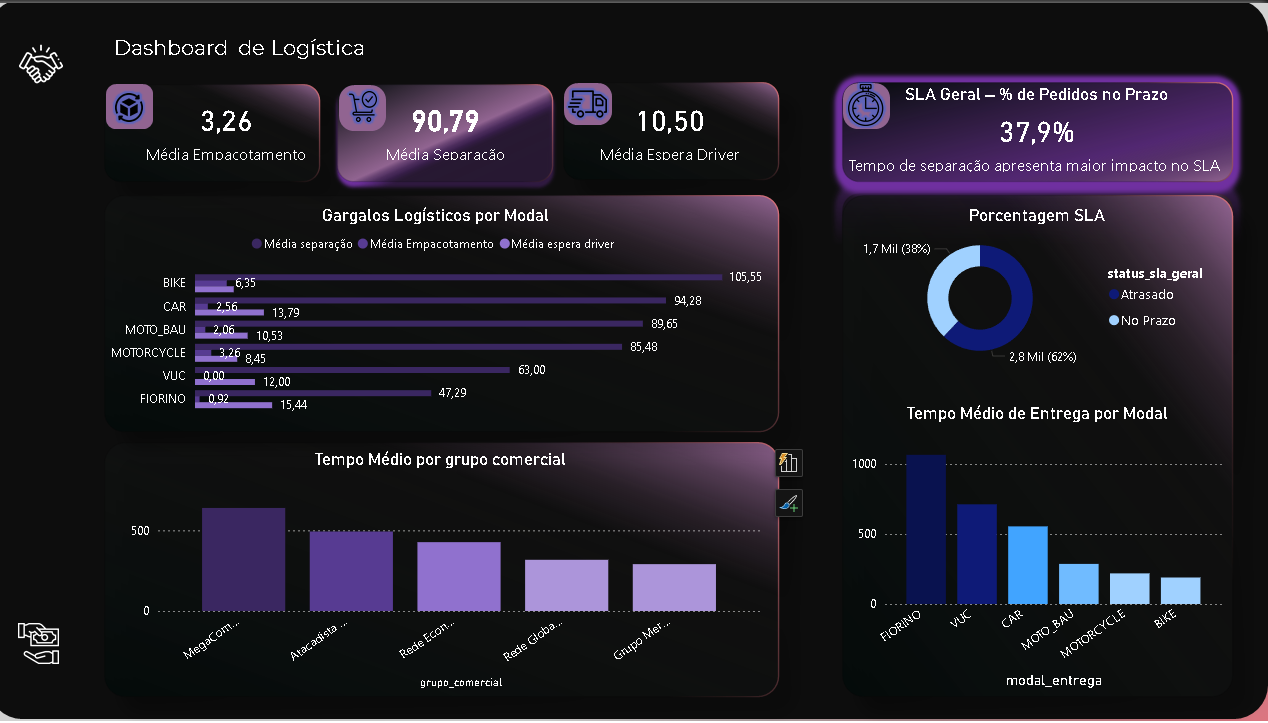

This screenshot's page, from the dashboard's own definition file:
{"tool":"powerbi","page":{"name":"Página 1","canvas":[1280,720],"ordinal":0},"visuals":[{"type":"clusteredColumnChart","title":"Tempo Médio de Entrega por Modal","fields":{"Category":["vw_logistica_pedidos.modal_entrega"],"Y":["Avg(vw_logistica_pedidos.tempo_total_entrega_min)"]},"box":[859.2,400.5,379.3,289.3],"z":0},{"type":"clusteredColumnChart","title":"Tempo Médio por grupo comercial","fields":{"Category":["vw_logistica_pedidos.grupo_comercial"],"Y":["Avg(vw_logistica_pedidos.tempo_total_entrega_min)"]},"box":[125,446,654,244],"z":1000},{"type":"donutChart","title":"Porcentagem SLA","fields":{"Category":["vw_logistica_pedidos.status_sla_geral"],"Y":["CountNonNull(vw_logistica_pedidos.order_uuid)"]},"box":[859.1,201.8,379.1,167.3],"z":2000},{"type":"card","title":"SLA Geral – % de Pedidos no Prazo","fields":{"Values":["vw_logistica_pedidos.SLA Geral %"]},"box":[847,81,403,93],"z":3000},{"type":"clusteredBarChart","title":"Gargalos Logísticos por Modal","fields":{"Category":["vw_logistica_pedidos.modal_entrega"],"Y":["Avg(vw_logistica_pedidos.tempo_separacao_min)","Avg(vw_logistica_pedidos.tempo_empacotamento_min)","Avg(vw_logistica_pedidos.tempo_espera_driver_min)"]},"box":[114.7,202,664.3,217.9],"z":4000},{"type":"card","fields":{"Values":["vw_logistica_pedidos.Média Empacotamento"]},"box":[151,91,174,71],"z":5000},{"type":"card","fields":{"Values":["vw_logistica_pedidos.Média Separação"]},"box":[376,91,162,71],"z":6000},{"type":"card","fields":{"Values":["vw_logistica_pedidos.Média Espera Driver"]},"box":[602,91,160,71],"z":7000}]}

Visuals, with their boxes in screenshot pixels (x1, y1, x2, y2), scaled from the page's 1280x720 canvas onto the 1268x723 screenshot:
"Tempo Médio de Entrega por Modal" clusteredColumnChart: left=851, top=402, right=1227, bottom=693
"Tempo Médio por grupo comercial" clusteredColumnChart: left=124, top=448, right=772, bottom=693
"Porcentagem SLA" donutChart: left=851, top=203, right=1227, bottom=371
"SLA Geral – % de Pedidos no Prazo" card: left=839, top=81, right=1238, bottom=175
"Gargalos Logísticos por Modal" clusteredBarChart: left=114, top=203, right=772, bottom=422
card - vw_logistica_pedidos.Média Empacotamento: left=150, top=91, right=322, bottom=163
card - vw_logistica_pedidos.Média Separação: left=372, top=91, right=533, bottom=163
card - vw_logistica_pedidos.Média Espera Driver: left=596, top=91, right=755, bottom=163
